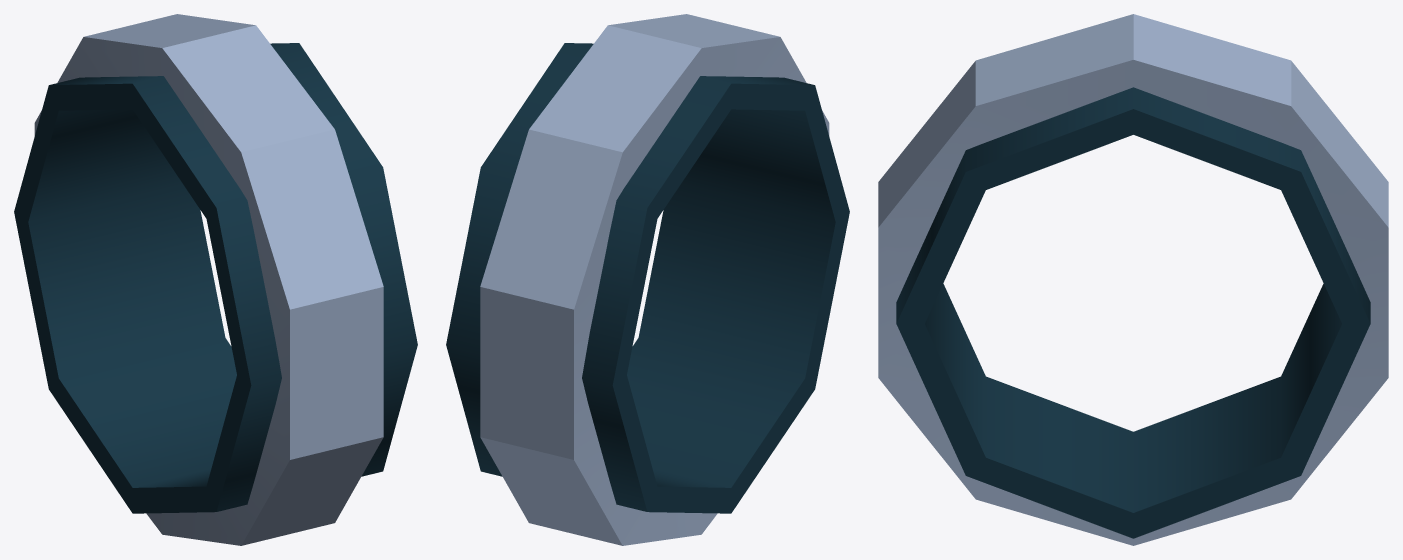
The model's file is PipeSmall_Connector_05_Hollow.fbx.
3 views of the same model, side by side, from view 1: azimuth 30°, elevation 25°; view 2: azimuth 150°, elevation 25°; view 3: azimuth 270°, elevation 25° (orthographic).
Parts seen in each view (by area): view 1: PipeSmall_Connector_05_Hollow.001; view 2: PipeSmall_Connector_05_Hollow.001; view 3: PipeSmall_Connector_05_Hollow.001.
Boxes of the visible parts, x1=… form: PipeSmall_Connector_05_Hollow.001: x1=14, y1=14, x2=417, y2=545; PipeSmall_Connector_05_Hollow.001: x1=446, y1=14, x2=849, y2=545; PipeSmall_Connector_05_Hollow.001: x1=878, y1=14, x2=1388, y2=545.
Size of the model in its own units: 0.0432 by 0.1206 by 0.1147.
